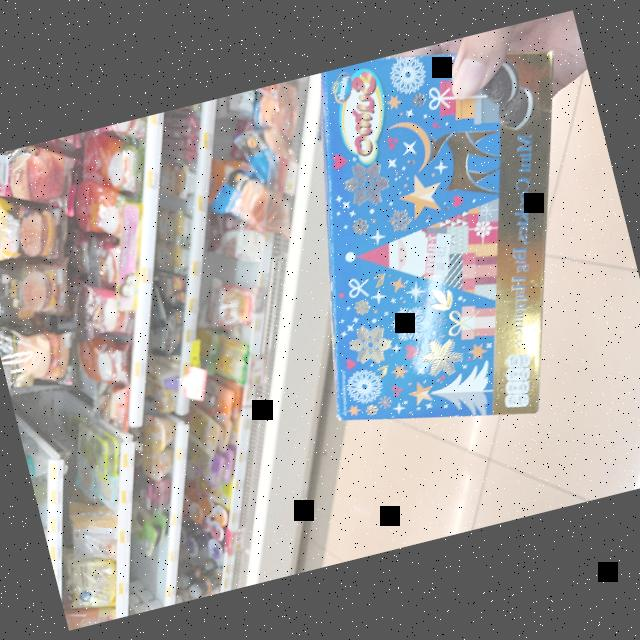cardboard_box: (241, 18, 638, 474)
